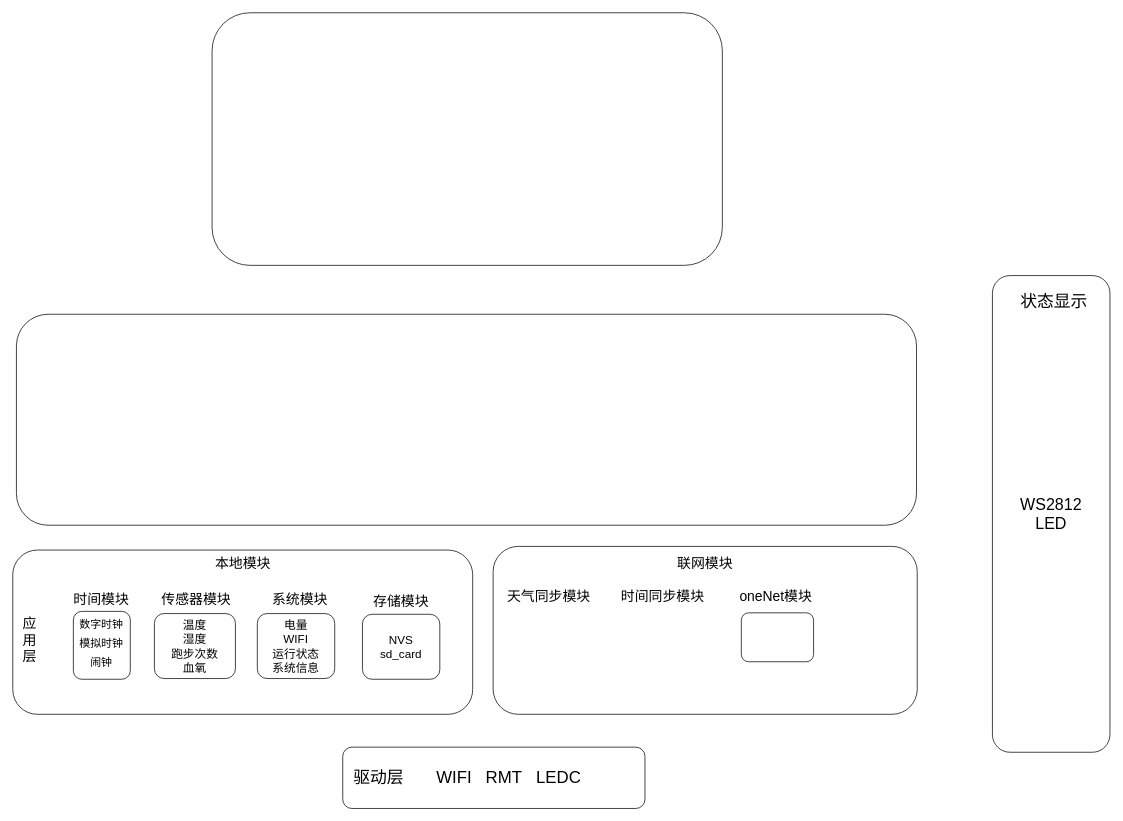
The diagram is 1123 pixels wide and 821 high, and some of its shapes have lost their labels. The centre of each missing label's shape, as x and y in pixels:
Freertos: (x=466, y=419)
UI界面: (x=466, y=138)
消息接收 云端设置参数 OTA 升级模块: (x=777, y=637)
